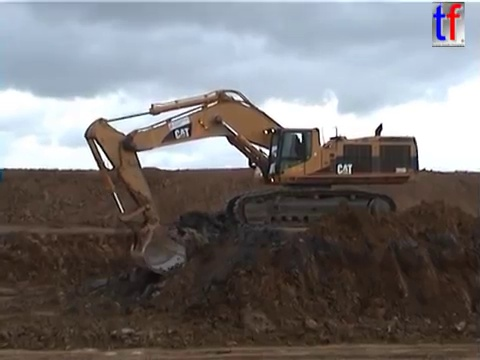excavator: (81, 86, 422, 278)
